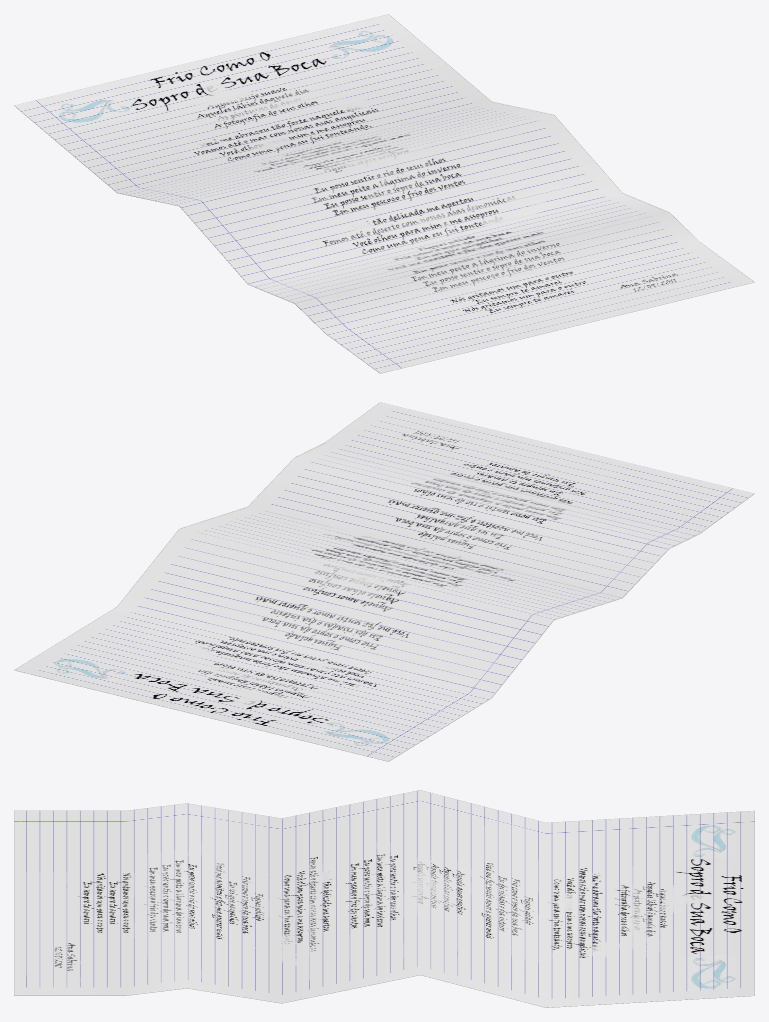
File: poesia_01_MESH.fbx
3 views of the same model, one above another, from view 1: azimuth 30°, elevation 25°; view 2: azimuth 150°, elevation 25°; view 3: azimuth 270°, elevation 25° (orthographic).
Parts seen in each view (by area): view 1: pCube1; view 2: pCube1; view 3: pCube1.
Boxes of the visible parts, <box> form: pCube1: <box>14,14,754,373</box>; pCube1: <box>14,402,754,761</box>; pCube1: <box>14,790,754,1007</box>.
Bounding box in the file's own units: 2.45 × 0.203 × 4.14.
